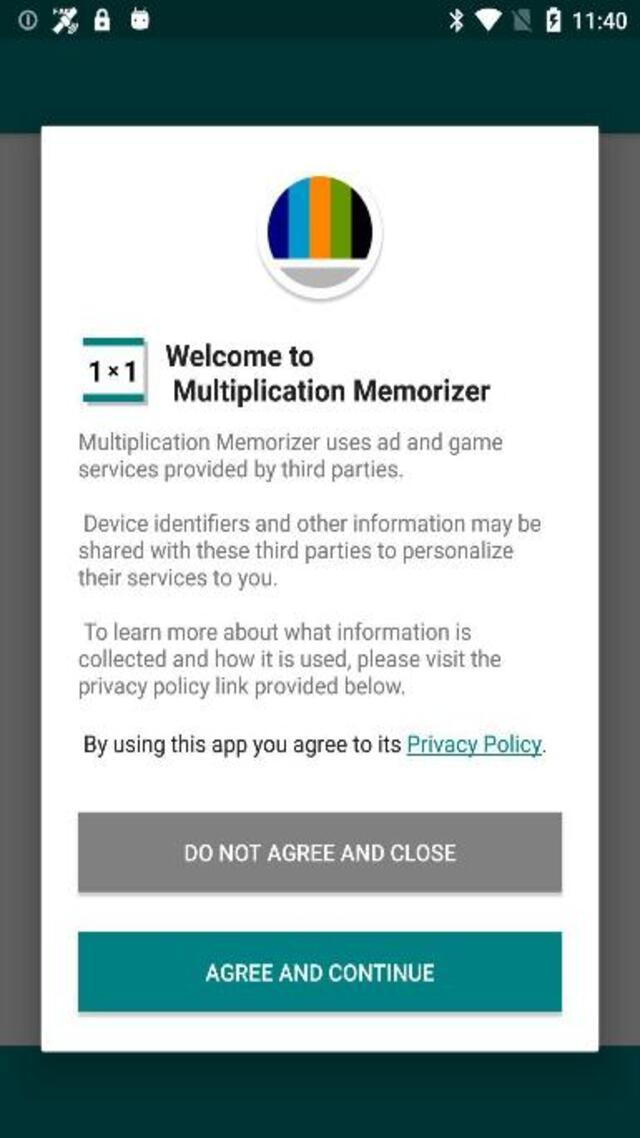Image: (258, 170, 384, 300), (84, 337, 149, 406)
Text: (81, 730, 539, 757), (78, 616, 482, 646), (70, 645, 508, 672), (79, 431, 503, 458), (78, 512, 546, 536), (79, 537, 519, 562), (169, 377, 494, 410), (74, 673, 412, 703), (74, 461, 405, 485), (180, 841, 459, 866), (77, 566, 281, 596), (202, 960, 439, 985), (162, 343, 318, 372)
TextButton: (77, 931, 561, 1011), (77, 812, 561, 892)
